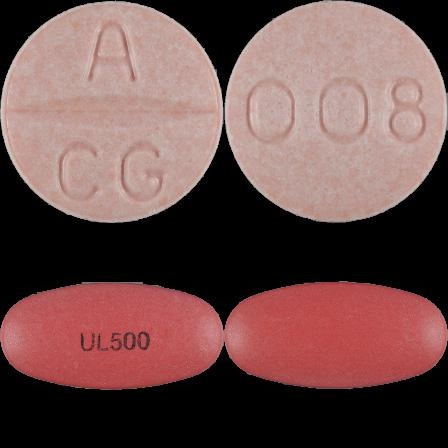68151-4146: (0, 0, 224, 224)
